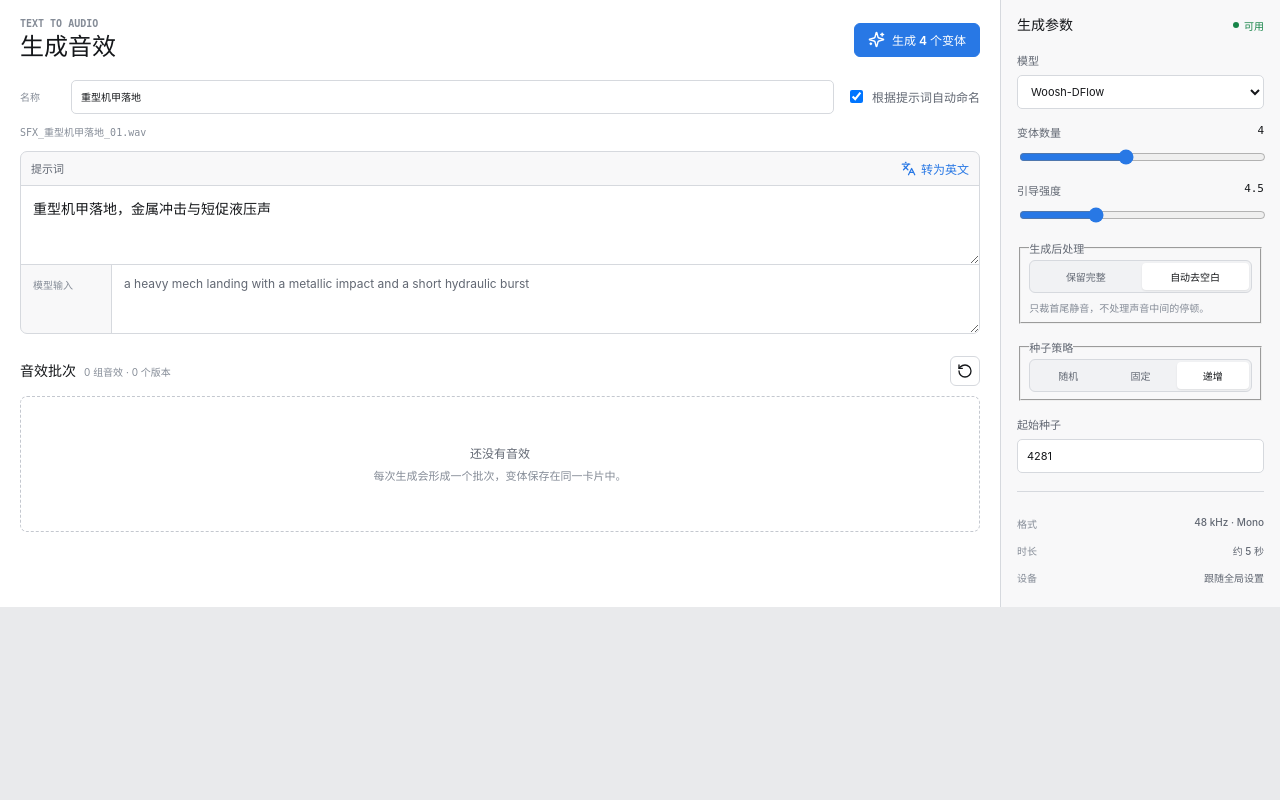
it: GenerateView › automatically prepares the local translation model on first use
What coordinates should you click on to do the following:
click the button "转为英文"
I would click on:
 (935, 168)
Its box is [901,156,969,181].
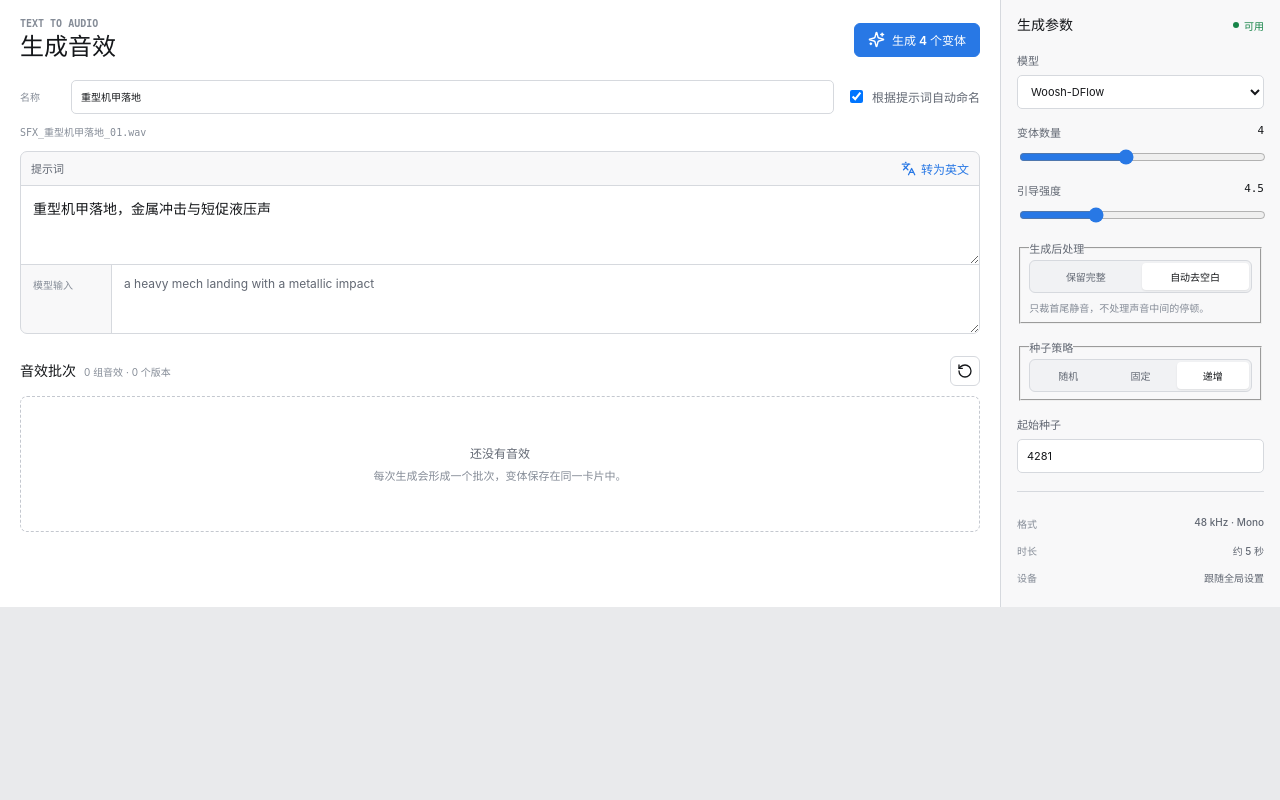
Now the text box named "英文模型提示词" holds "a heavy mech landing with a metallic impact", box [111,265,979,333]
